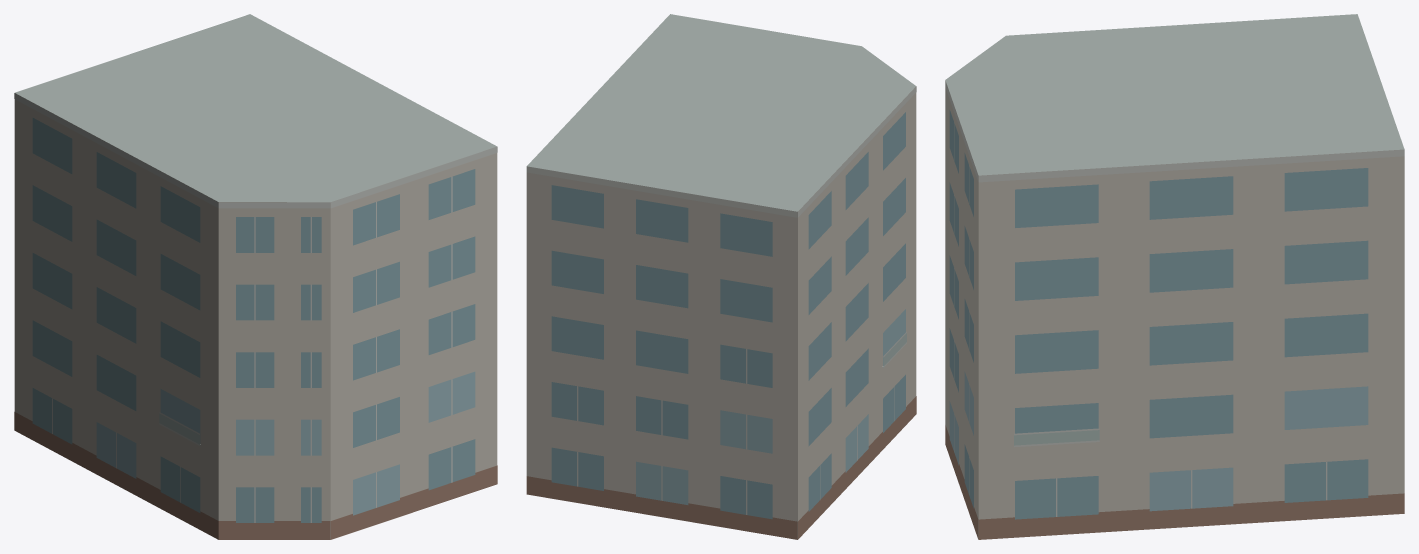
The model's file is survey-upis-32733662.glb.
3 views of the same model, side by side, from view 1: azimuth 30°, elevation 25°; view 2: azimuth 150°, elevation 25°; view 3: azimuth 270°, elevation 25° (orthographic). The views are drawn at different scales.
Visible parts, largest first — view 1: survey-upis-32733662.tmp; view 2: survey-upis-32733662.tmp; view 3: survey-upis-32733662.tmp.
Boxes of the visible parts, box(x1,y1,x2,y2) form: survey-upis-32733662.tmp: box(14, 14, 497, 539); survey-upis-32733662.tmp: box(526, 14, 916, 539); survey-upis-32733662.tmp: box(945, 14, 1404, 539).
Size of the model in its own units: 12.48 by 13.1 by 14.98.
